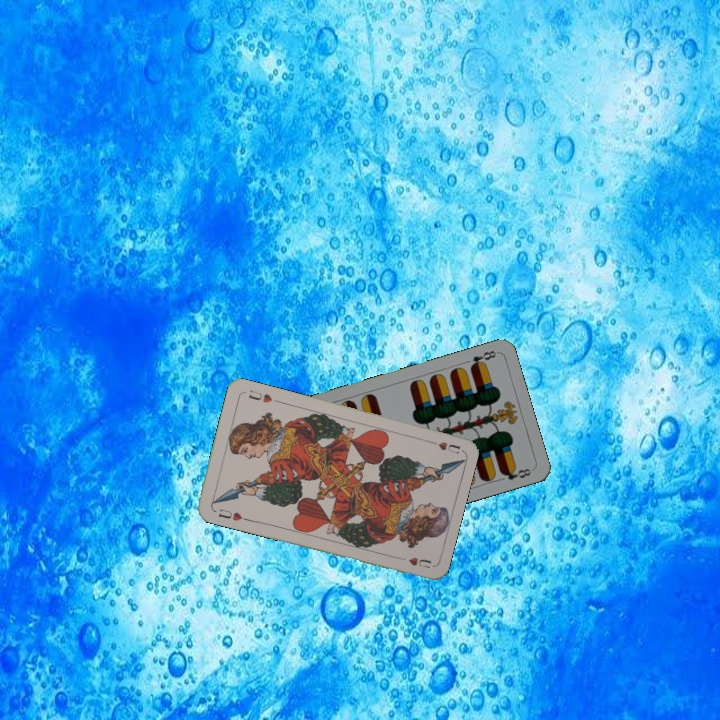E8: (466, 346, 499, 371)
HU: (423, 436, 463, 456), (214, 505, 245, 524)
